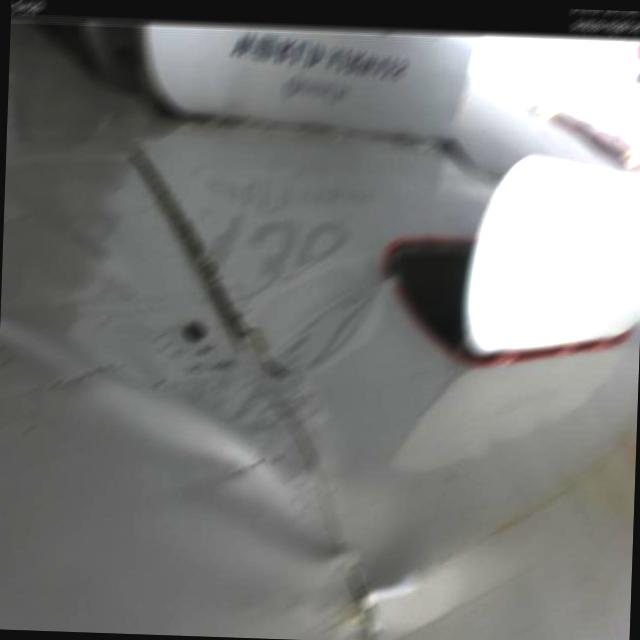dent: (0, 315, 348, 640), (324, 535, 492, 640)
